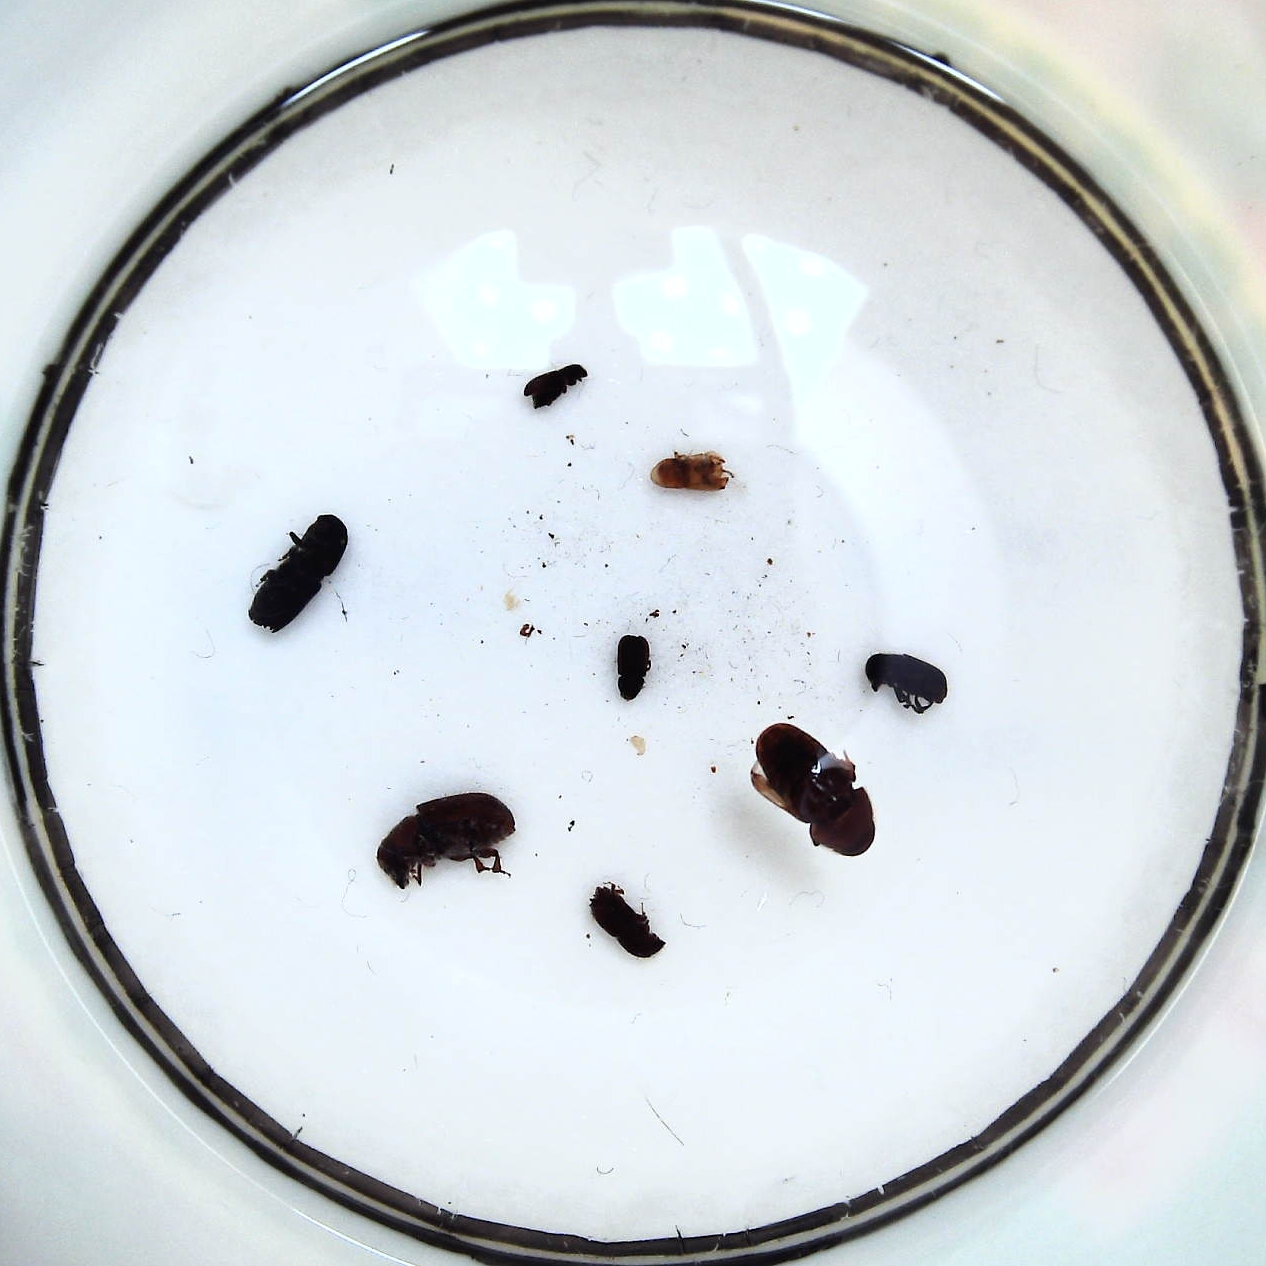Boerner: (249, 512, 347, 634)
Leconte: (756, 723, 876, 857), (377, 791, 516, 888)
acuminatus: (525, 364, 587, 410), (618, 635, 650, 701)
armandi: (866, 653, 948, 704)
coleoptera: (652, 452, 730, 492)
linnaeus: (590, 885, 665, 956)
